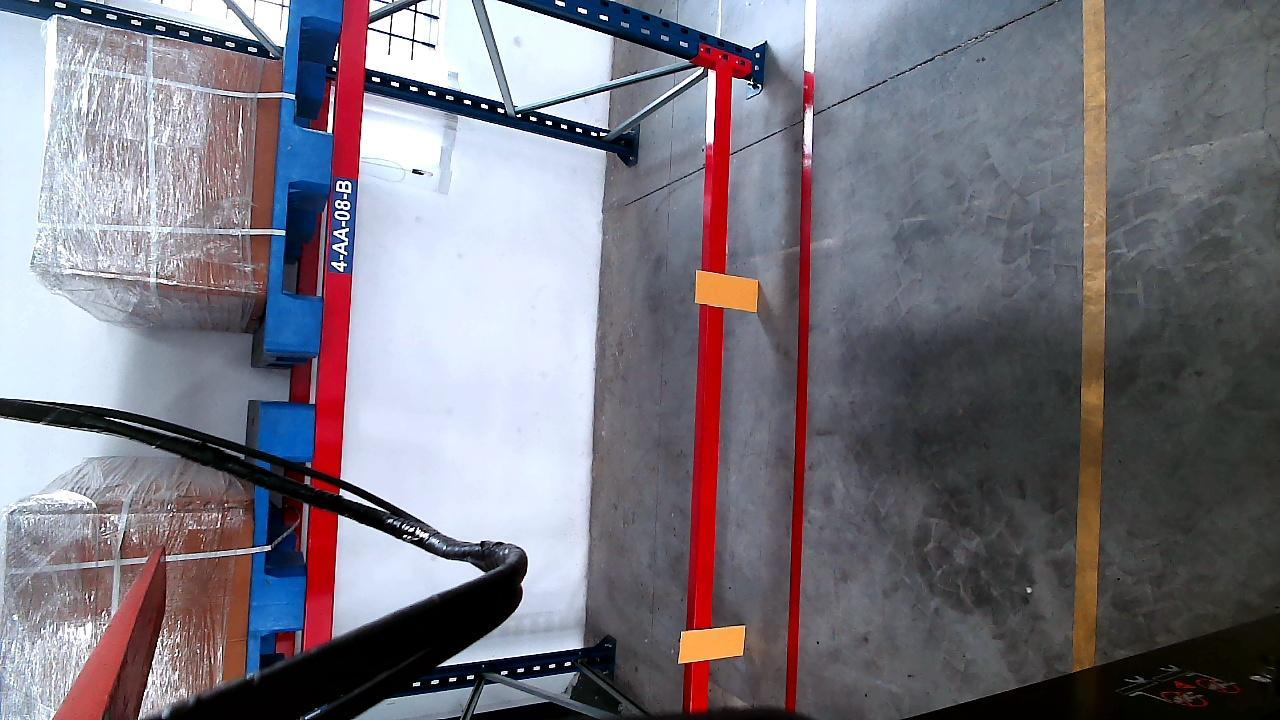red_line: (784, 0, 818, 709)
yellow_line: (1078, 0, 1102, 671)
